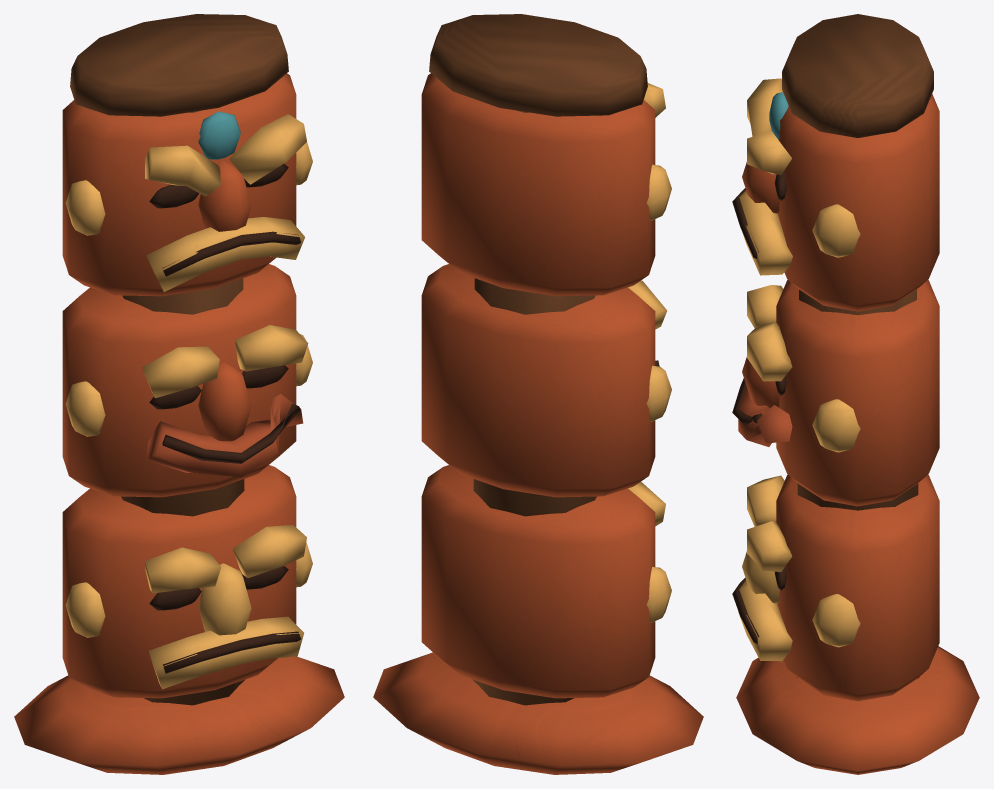
The model's file is totem_v2.glb.
The picture shows the model from 3 angles, left to right: view 1: azimuth 30°, elevation 25°; view 2: azimuth 150°, elevation 25°; view 3: azimuth 270°, elevation 25°; orthographic projection. The views are drawn at different scales.
Visible parts, largest first — view 1: TotemV2, TribeAccent; view 2: TotemV2; view 3: TotemV2, TribeAccent.
Part boxes in pixels (bbox=[...]): TotemV2: bbox=[14, 14, 344, 774]; TribeAccent: bbox=[198, 111, 240, 159]; TotemV2: bbox=[373, 14, 703, 774]; TotemV2: bbox=[732, 14, 979, 774]; TribeAccent: bbox=[769, 92, 788, 139].
Size of the model in its own units: 1.82 by 3.91 by 1.3.
1 material, 1 textured.
